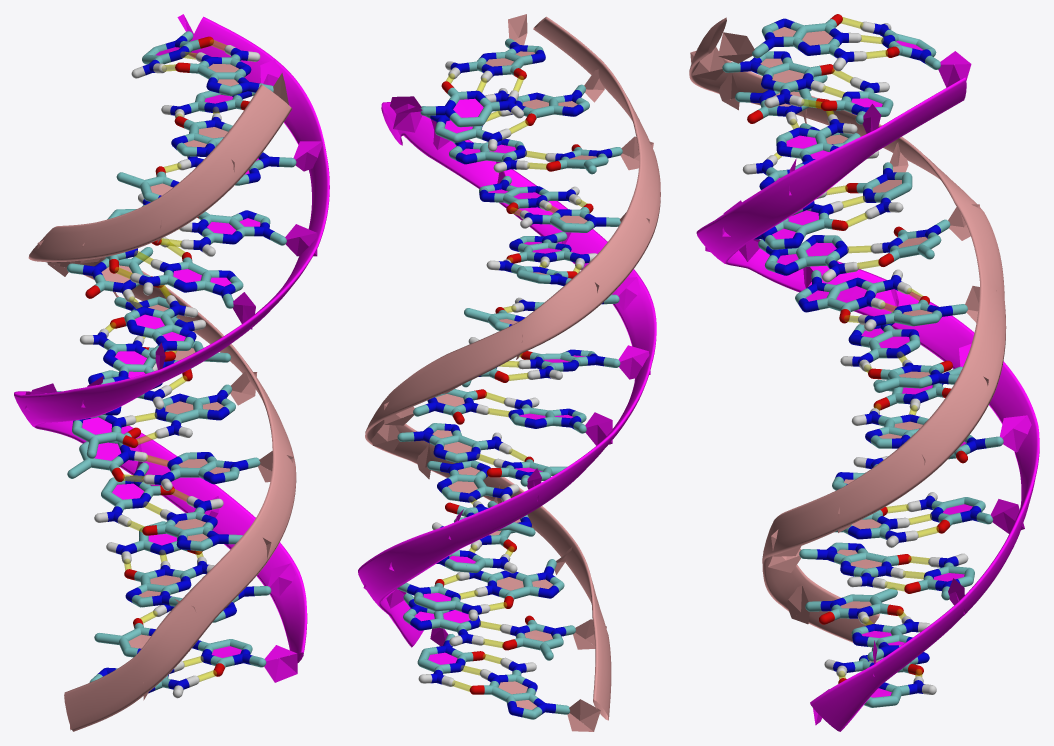
Rendered from b-dna.glb.
The picture shows the model from 3 angles, left to right: view 1: azimuth 30°, elevation 25°; view 2: azimuth 150°, elevation 25°; view 3: azimuth 270°, elevation 25°; orthographic projection. The views are drawn at different scales.
Parts seen in each view (by area): view 1: Object_3, Object_2, Object_8, Object_4, Object_13, Object_12, Object_7; view 2: Object_3, Object_2, Object_8, Object_4, Object_13, Object_12, Object_7; view 3: Object_3, Object_2, Object_8, Object_4, Object_13, Object_12, Object_7.
Boxes of the visible parts, x1=… form: Object_3: x1=28, y1=63, x2=296, y2=731; Object_2: x1=14, y1=14, x2=329, y2=682; Object_8: x1=57, y1=31, x2=296, y2=690; Object_4: x1=73, y1=36, x2=279, y2=693; Object_13: x1=80, y1=45, x2=260, y2=698; Object_12: x1=105, y1=39, x2=226, y2=681; Object_7: x1=85, y1=36, x2=249, y2=676; Object_3: x1=365, y1=14, x2=660, y2=731; Object_2: x1=358, y1=96, x2=656, y2=664; Object_8: x1=397, y1=38, x2=622, y2=719; Object_4: x1=407, y1=42, x2=612, y2=717; Object_13: x1=418, y1=61, x2=597, y2=686; Object_12: x1=442, y1=73, x2=586, y2=691; Object_7: x1=435, y1=68, x2=593, y2=694; Object_3: x1=689, y1=17, x2=1006, y2=662; Object_2: x1=696, y1=40, x2=1039, y2=731; Object_8: x1=722, y1=19, x2=1003, y2=707; Object_4: x1=740, y1=18, x2=986, y2=694; Object_13: x1=742, y1=21, x2=968, y2=694; Object_12: x1=774, y1=17, x2=938, y2=679; Object_7: x1=747, y1=14, x2=967, y2=683.
Size of the model in its own units: 1.01 by 2.41 by 1.1.
